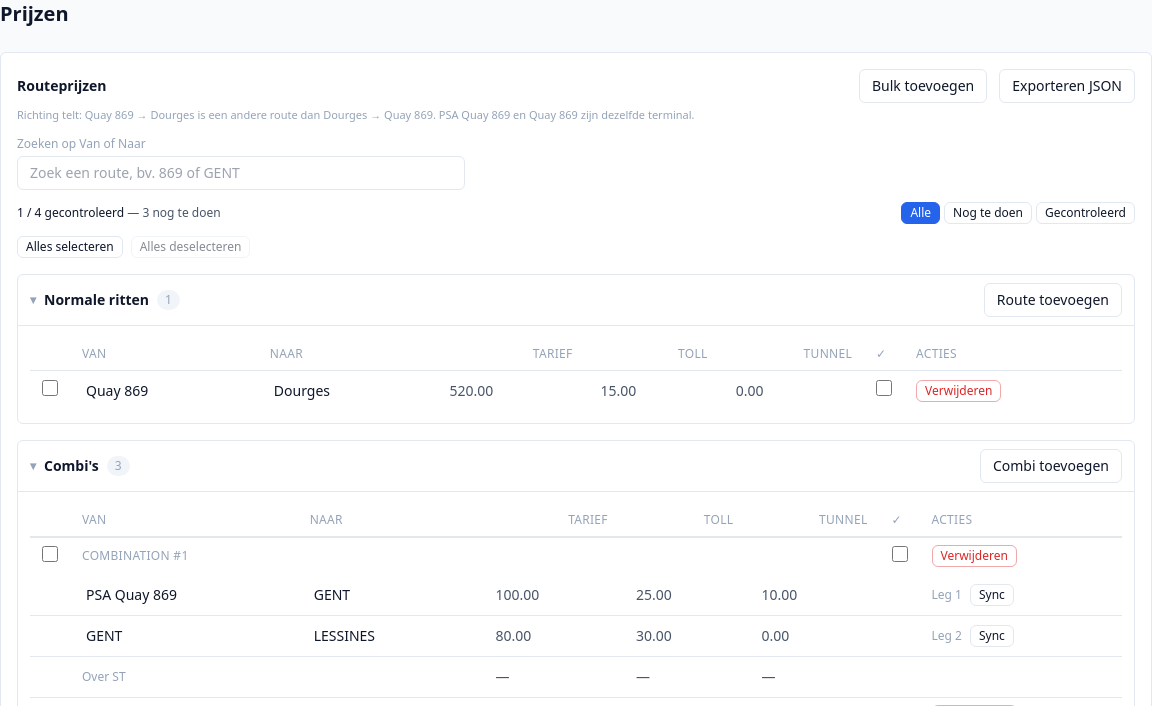
Test: the sync button › asks the backend about Leg 1 only
Check: the button "Dourges" is shown, box 270,378 -> 422,402
Click the 1st button "Sync": (992,594) 970,584 -> 1014,606
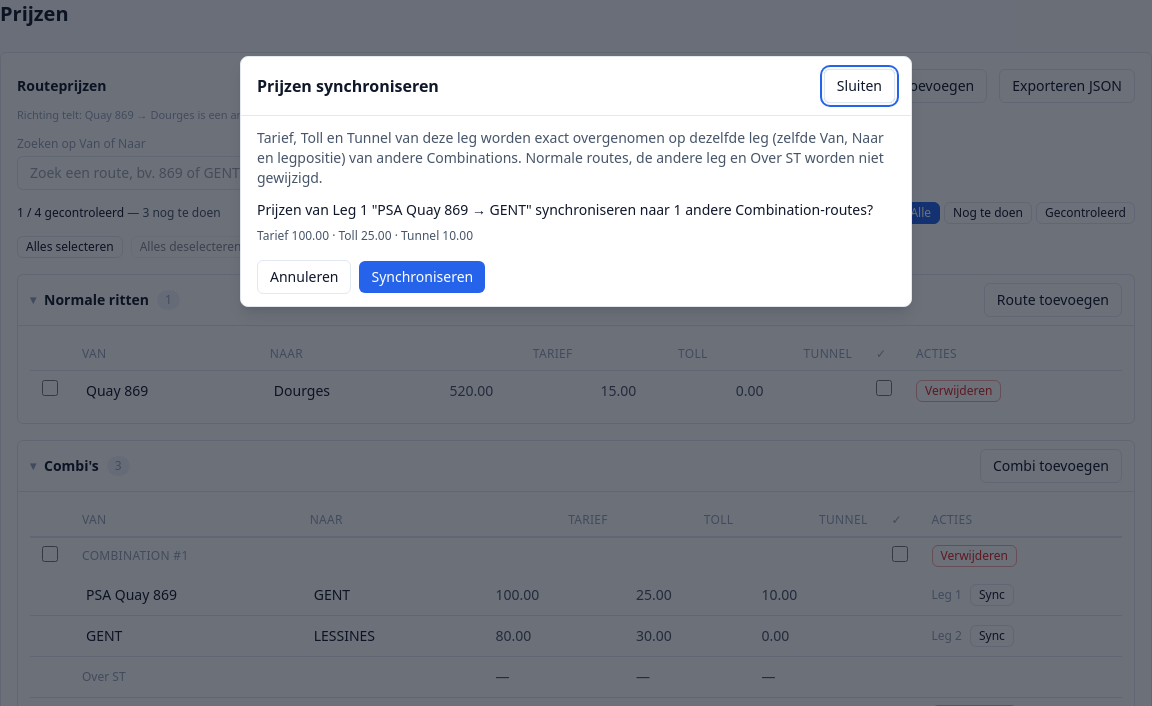
Check: the dialog is shown, box 240,56 -> 912,307
